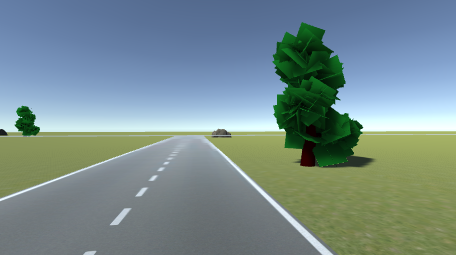rock: (211, 129, 233, 138)
tree: (271, 21, 363, 171), (16, 104, 41, 137)
